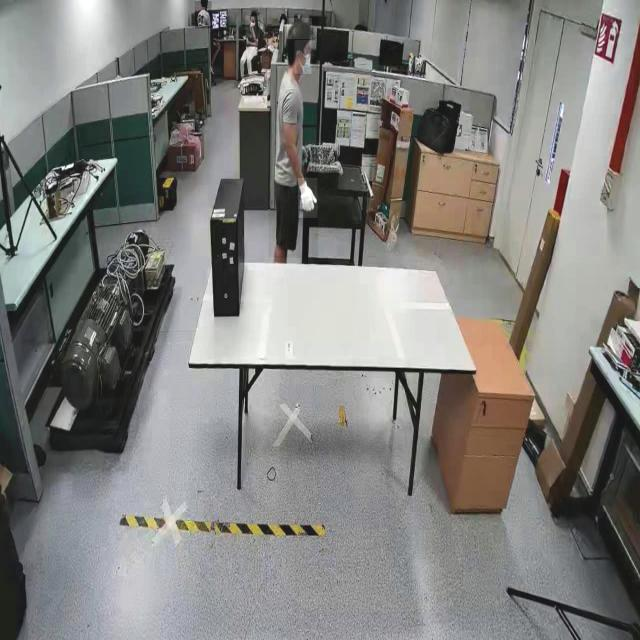face_mask: (294, 40, 312, 75), (246, 16, 256, 37)
hand_glove: (298, 178, 318, 218)
head_nohelmet: (286, 18, 312, 40), (251, 10, 258, 17)
person: (268, 17, 318, 259), (241, 12, 265, 78), (194, 1, 212, 29)
